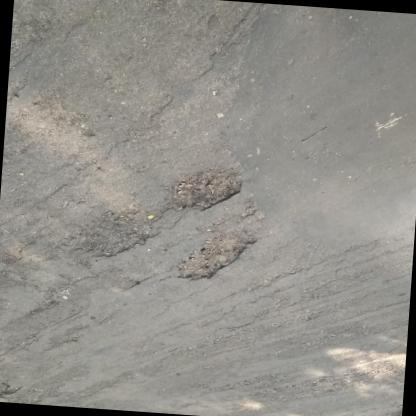pothole: (174, 224, 262, 290), (74, 206, 166, 264), (168, 160, 247, 218)
